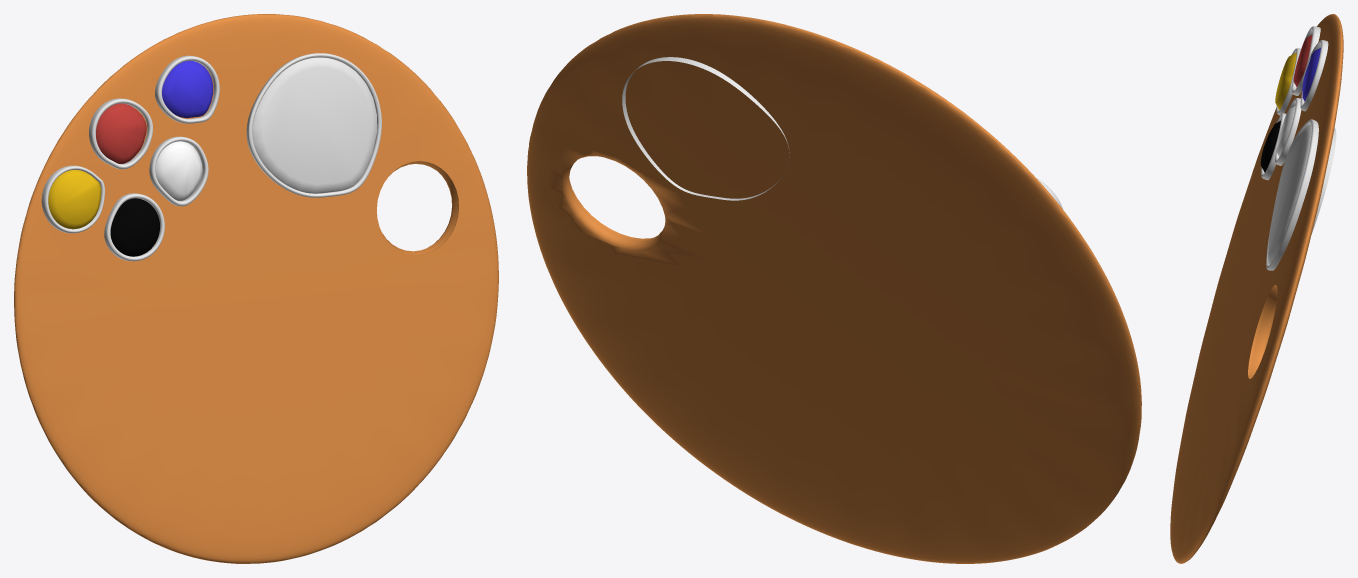
File: paintPallet.fbx
3 views of the same model, side by side, from view 1: azimuth 30°, elevation 25°; view 2: azimuth 150°, elevation 25°; view 3: azimuth 270°, elevation 25° (orthographic). The views are drawn at different scales.
Parts seen in each view (by area): view 1: Circle.003, Circle.041, Circle.033, Circle.032, Circle.031, Circle.028, Circle.006, Circle.029, Circle.034, Circle.051, Circle.052, Circle.053 (+1 smaller); view 2: Circle.003, Circle.006; view 3: Circle.003, Circle.041, Circle.006, Circle.051, Circle.033, Circle.052, Circle.028, Circle.032, Circle.031, Circle.034, Circle.029, Circle.053 (+1 smaller).
Boxes of the visible parts, x1,y1,x2,y2 form: Circle.003: (14,14,498,563); Circle.041: (252,57,377,193); Circle.033: (48,170,101,229); Circle.032: (96,103,146,163); Circle.031: (162,60,213,118); Circle.028: (110,198,159,256); Circle.006: (246,53,381,197); Circle.029: (155,141,202,200); Circle.034: (89,98,152,169); Circle.051: (155,55,219,123); Circle.052: (149,136,208,206); Circle.053: (104,193,164,261); Circle.003: (527,14,1141,563); Circle.006: (622,57,789,200); Circle.003: (1170,14,1343,563); Circle.041: (1268,124,1311,264); Circle.006: (1266,119,1336,270); Circle.051: (1300,40,1328,111); Circle.033: (1275,52,1296,110); Circle.052: (1275,98,1301,165); Circle.028: (1260,120,1280,172); Circle.032: (1293,34,1312,87); Circle.031: (1302,48,1320,101); Circle.034: (1291,26,1320,95); Circle.029: (1276,105,1295,156); Circle.053: (1261,113,1286,180).
Bounding box in the file's own units: 5.17 × 4.94 × 1.57.
